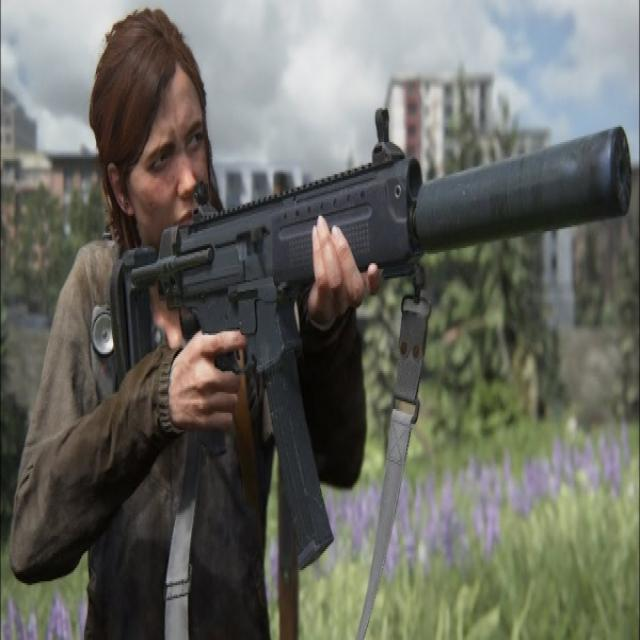weapon: (110, 98, 638, 572)
